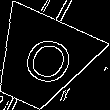O_SW: (8, 29, 74, 94)
